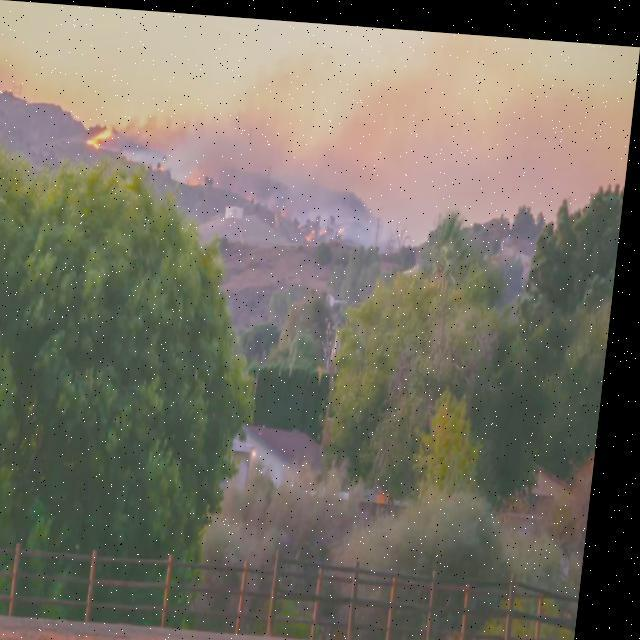Fire: (85, 120, 114, 152), (308, 220, 322, 238), (341, 221, 348, 233), (323, 221, 331, 230)
